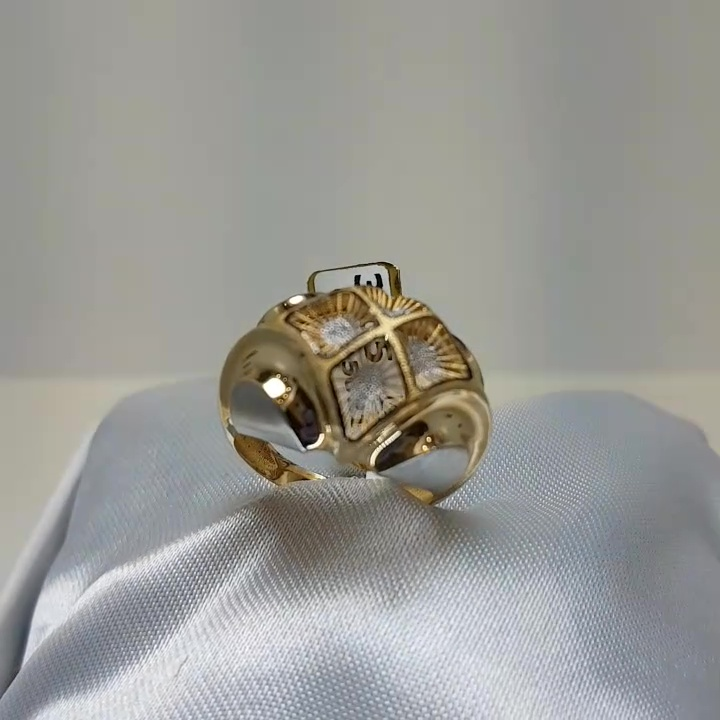Ring 2: (195, 262, 505, 525)
